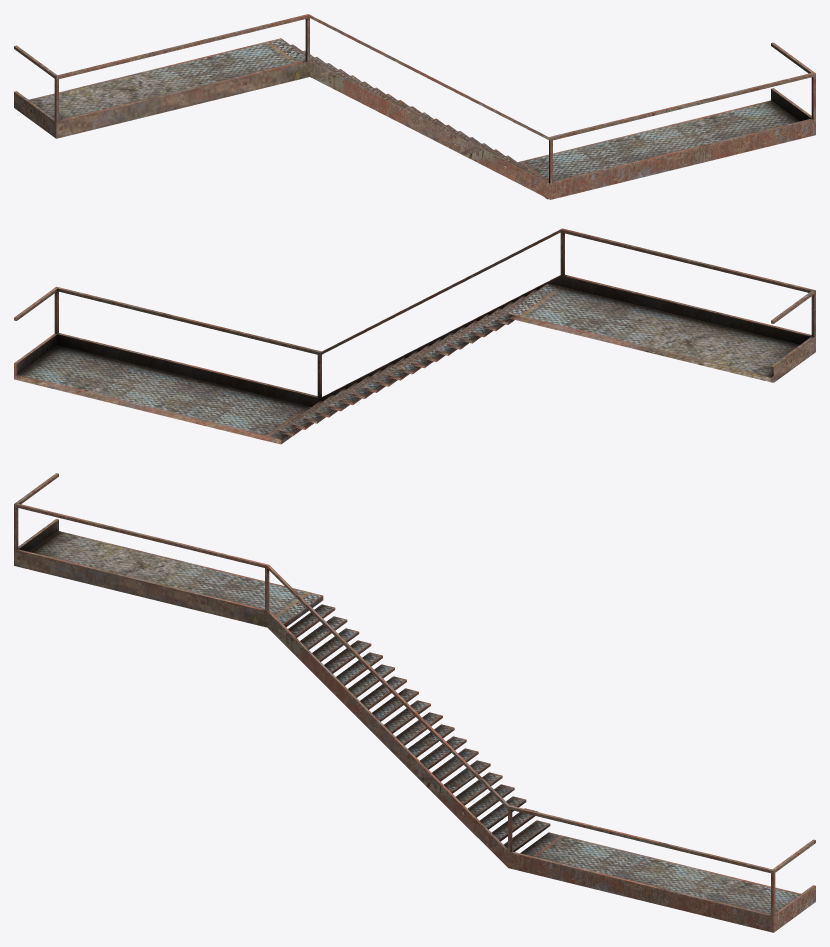
The model's file is A4_ExtStairs.FBX.
3 renders of one model, top to bottom at view 1: azimuth 30°, elevation 25°; view 2: azimuth 150°, elevation 25°; view 3: azimuth 330°, elevation 25°, orthographic.
Visible parts, largest first — view 1: A4_ExtStairs; view 2: A4_ExtStairs; view 3: A4_ExtStairs.
Boxes of the visible parts, <box> form: A4_ExtStairs: <box>14,14,815,199</box>; A4_ExtStairs: <box>14,228,815,444</box>; A4_ExtStairs: <box>14,473,815,932</box>.
Bounding box in the file's own units: 1400 × 429 × 135.
1 material, 1 textured.
